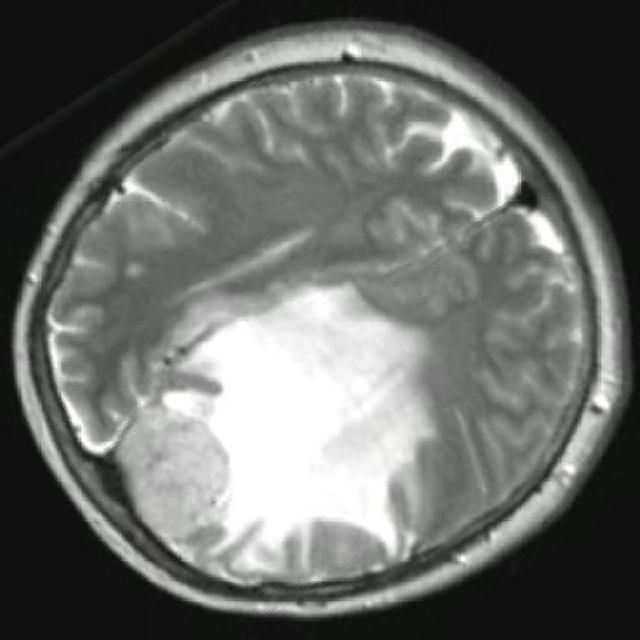Brain-Tumor: (106, 279, 452, 583)
